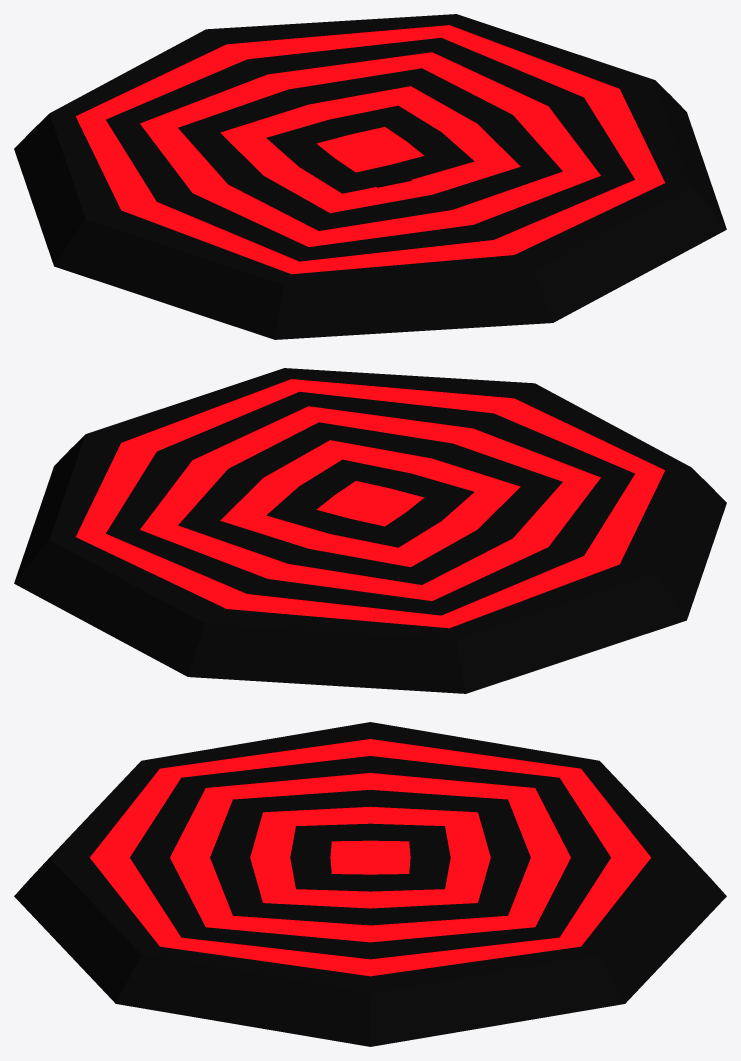
Rendered from teleport platform low poly sci-fi.fbx.
The picture shows the model from 3 angles, top to bottom: view 1: azimuth 30°, elevation 25°; view 2: azimuth 150°, elevation 25°; view 3: azimuth 270°, elevation 25°; orthographic projection. The views are drawn at different scales.
Visible parts, largest first — view 1: Cube; view 2: Cube; view 3: Cube.
Boxes of the visible parts, left/top/right/bottom form: Cube: left=14, top=14, right=726, bottom=339; Cube: left=14, top=368, right=726, bottom=693; Cube: left=14, top=722, right=726, bottom=1046.
Bounding box in the file's own units: 3.11 × 0.1861 × 3.11.
